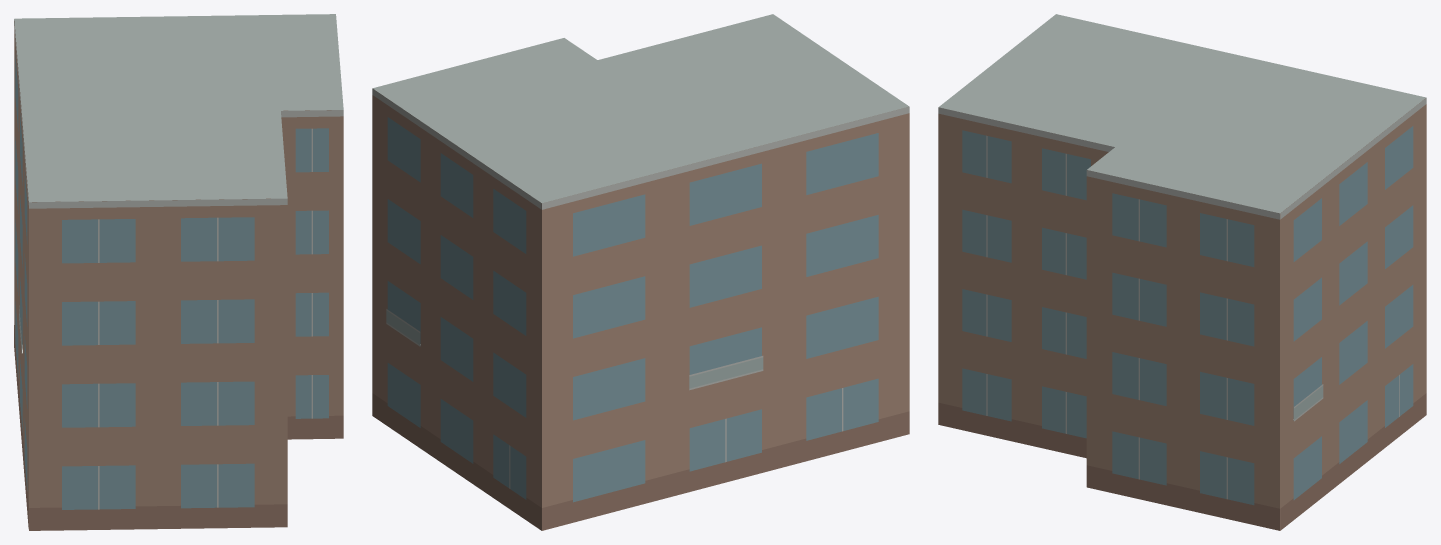
The model's file is residential-3bb43cad-06f0-4ed2-bd09-5c0ede76f0f3.glb.
3 renders of one model, left to right at view 1: azimuth 30°, elevation 25°; view 2: azimuth 150°, elevation 25°; view 3: azimuth 270°, elevation 25°, orthographic. The views are drawn at different scales.
Visible parts, largest first — view 1: residential-3bb43cad-06f0-4ed2-bd09-5c0ede76f0f3.tmp; view 2: residential-3bb43cad-06f0-4ed2-bd09-5c0ede76f0f3.tmp; view 3: residential-3bb43cad-06f0-4ed2-bd09-5c0ede76f0f3.tmp.
Boxes of the visible parts, x1,y1,x2,y2 form: residential-3bb43cad-06f0-4ed2-bd09-5c0ede76f0f3.tmp: (14,14,343,530); residential-3bb43cad-06f0-4ed2-bd09-5c0ede76f0f3.tmp: (372,14,909,530); residential-3bb43cad-06f0-4ed2-bd09-5c0ede76f0f3.tmp: (938,14,1426,530).
Size of the model in its own units: 16.44 by 12.2 by 17.01.
